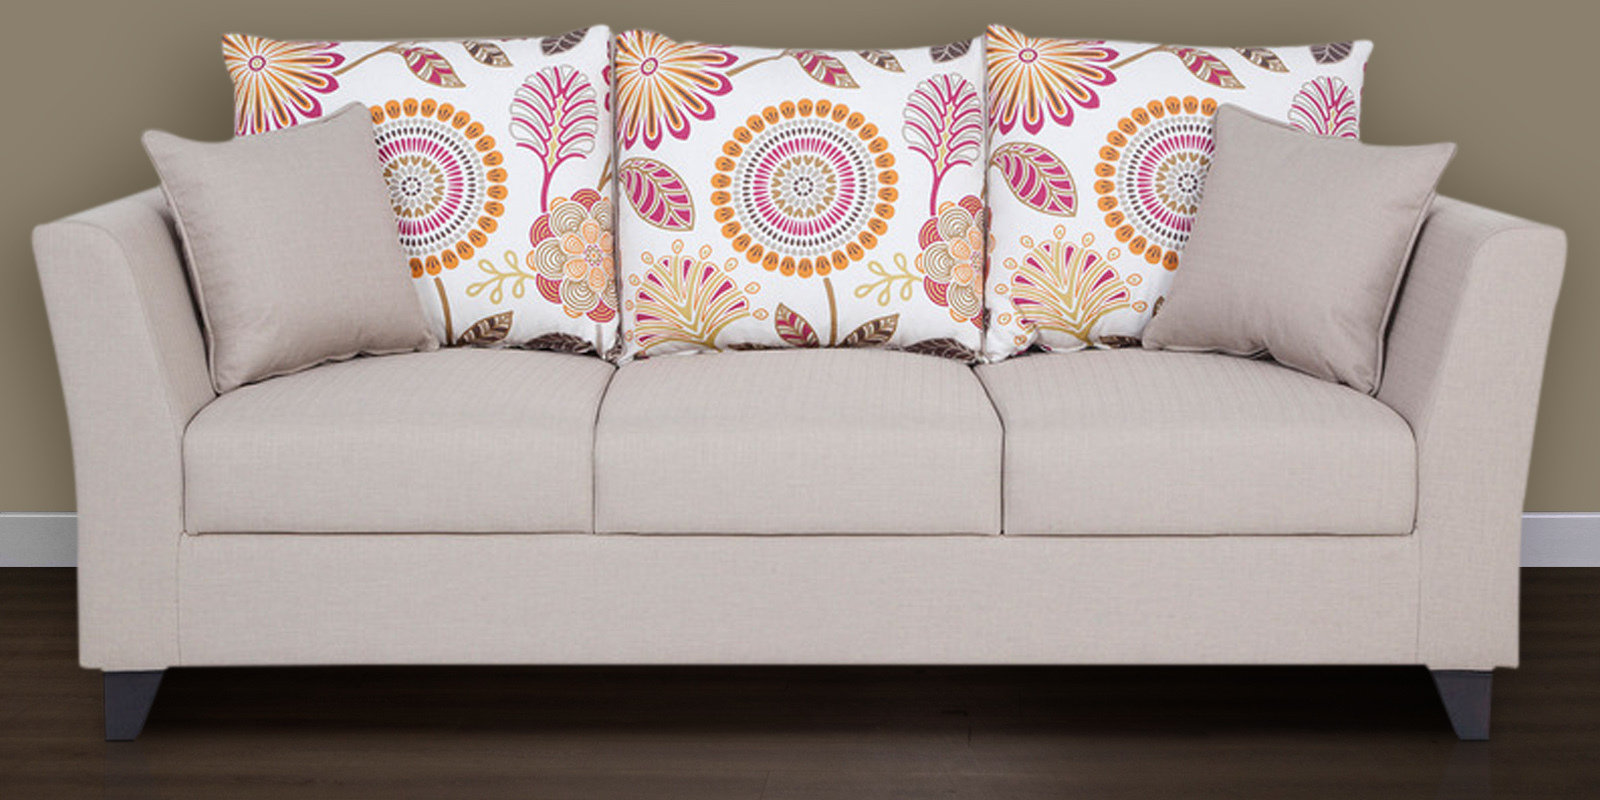Mumbai Glitz Three Seater Sofa in Beige Colour by Urban Living: (30, 23, 1574, 739)
